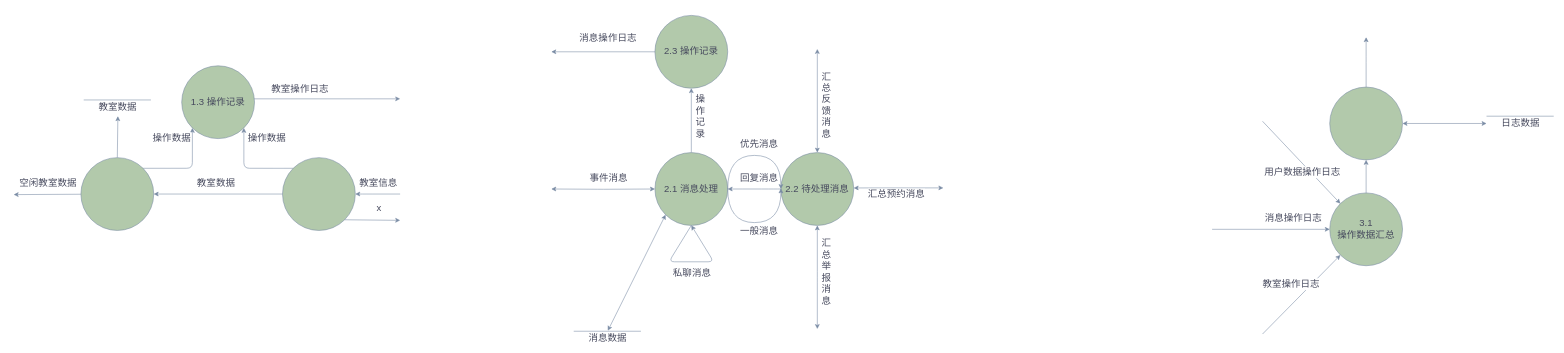
This 1564x353 diagram has some shape labels left out. The centre of each missing label's shape, as x and y in pixels:
"1.1 教室数据处理" goes at pixel 117 193.
"1.2 数据格式化" goes at pixel 318 193.
"3.2 系统数据汇总" goes at pixel 1366 123.
